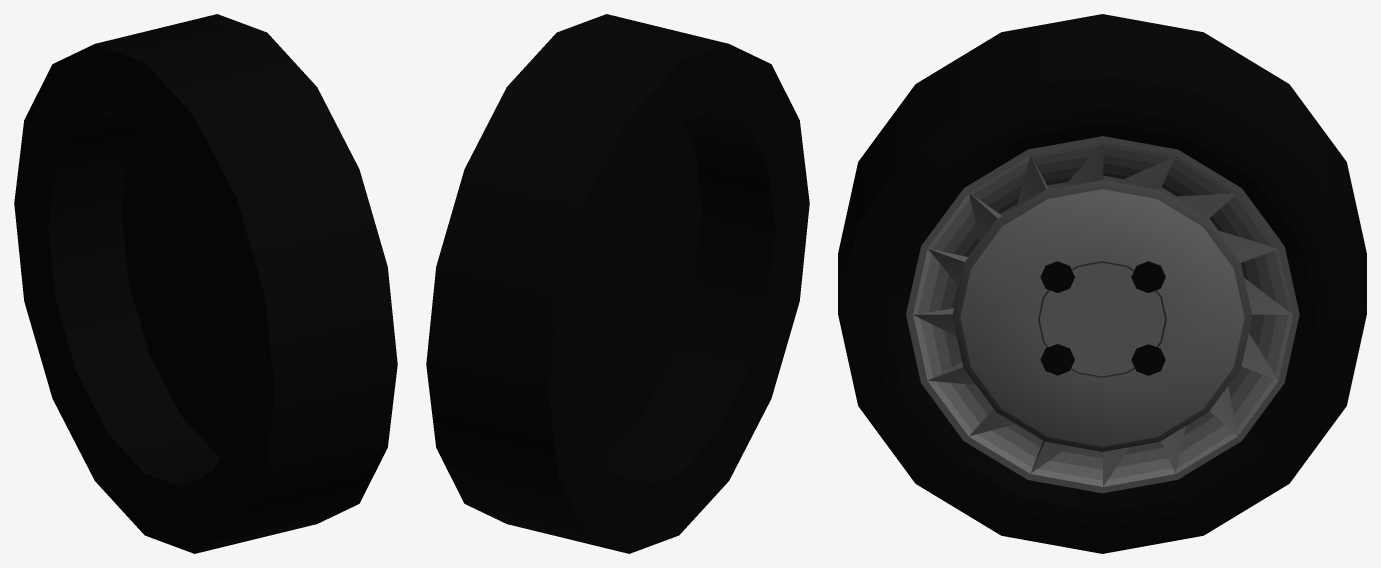
Rendered from SILVIAWheel1.fbx.
The picture shows the model from 3 angles, left to right: view 1: azimuth 30°, elevation 25°; view 2: azimuth 150°, elevation 25°; view 3: azimuth 270°, elevation 25°; orthographic projection.
Parts seen in each view (by area): view 1: RL; view 2: RL; view 3: RL.
Part boxes in pixels (x1,y1,x2,y2): RL: (14,14,397,553); RL: (426,14,809,553); RL: (838,14,1366,553).
Bounding box in the file's own units: 18.95 × 64.95 × 64.95.
